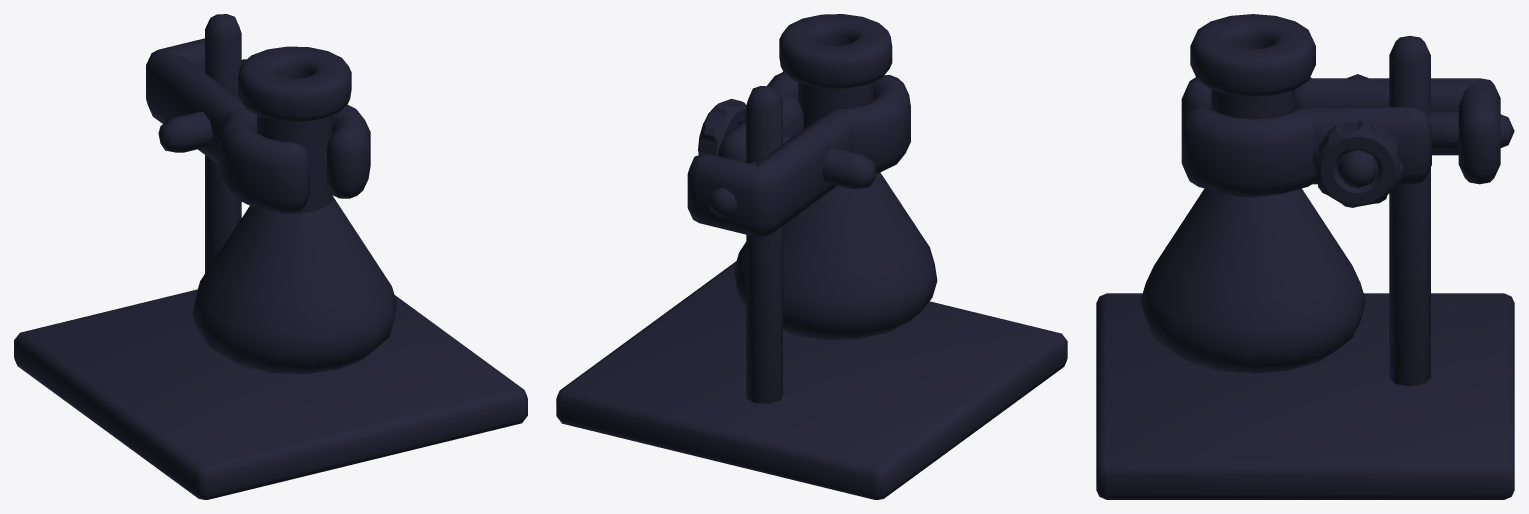
The model's file is Constructing_Storage.fbx.
3 renders of one model, left to right at view 1: azimuth 30°, elevation 25°; view 2: azimuth 150°, elevation 25°; view 3: azimuth 270°, elevation 25°, orthographic. The views are drawn at different scales.
Parts seen in each view (by area): view 1: Stand_Base_Small001; view 2: Stand_Base_Small001; view 3: Stand_Base_Small001.
Boxes of the visible parts, bbox=[...] form: Stand_Base_Small001: bbox=[14, 14, 527, 499]; Stand_Base_Small001: bbox=[556, 14, 1067, 499]; Stand_Base_Small001: bbox=[1096, 14, 1514, 499].
Bounding box in the file's own units: 100 × 100 × 100.
